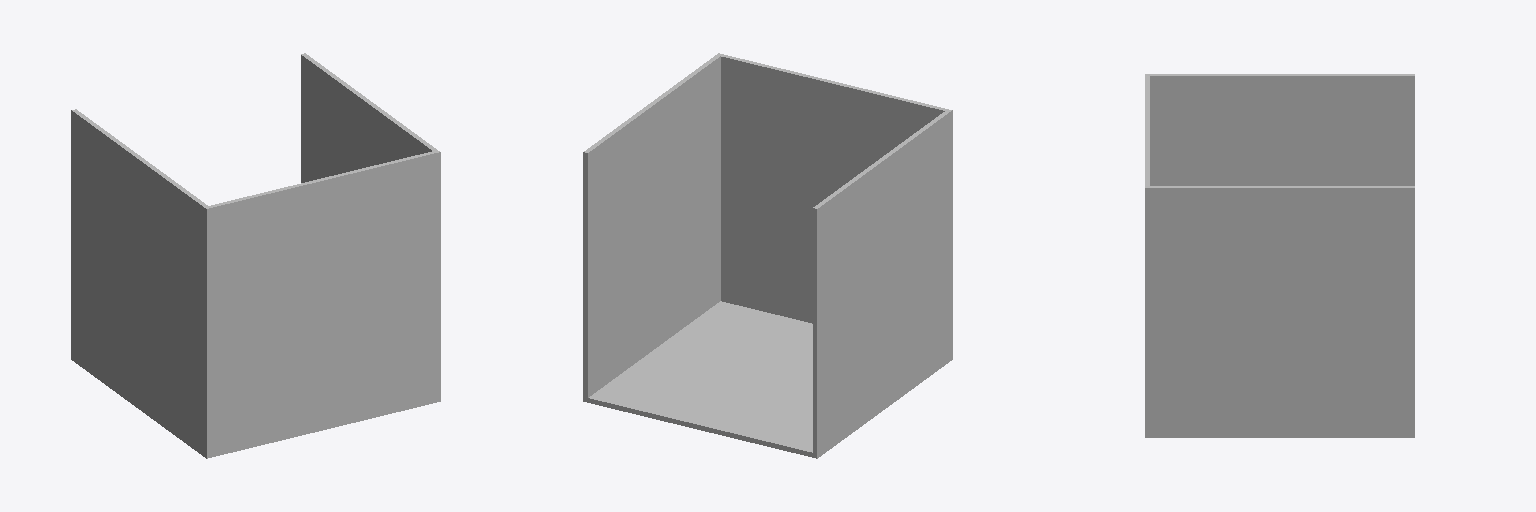
File: TileDeadEnd.obj
3 views of the same model, side by side, from view 1: azimuth 30°, elevation 25°; view 2: azimuth 150°, elevation 25°; view 3: azimuth 270°, elevation 25° (orthographic).
Visible parts, largest first — view 1: Tile_copy10, Tile_copy12, Tile_copy9, Tile; view 2: Tile_copy12, Tile_copy9, Tile_copy10, Tile; view 3: Tile_copy9, Tile_copy12, Tile, Tile_copy10.
Part boxes in pixels (left/top/right/bottom): Tile_copy10: left=209, top=151, right=435, bottom=452; Tile_copy12: left=71, top=109, right=210, bottom=453; Tile_copy9: left=301, top=53, right=440, bottom=397; Tile: left=71, top=355, right=440, bottom=458; Tile_copy12: left=813, top=109, right=952, bottom=453; Tile_copy9: left=583, top=53, right=722, bottom=397; Tile_copy10: left=721, top=54, right=946, bottom=323; Tile: left=583, top=301, right=952, bottom=458; Tile_copy9: left=1145, top=186, right=1414, bottom=432; Tile_copy12: left=1145, top=74, right=1414, bottom=185; Tile: left=1145, top=433, right=1414, bottom=437; Tile_copy10: left=1145, top=76, right=1149, bottom=185.
Size of the model in its own units: 5 by 5.1 by 5.